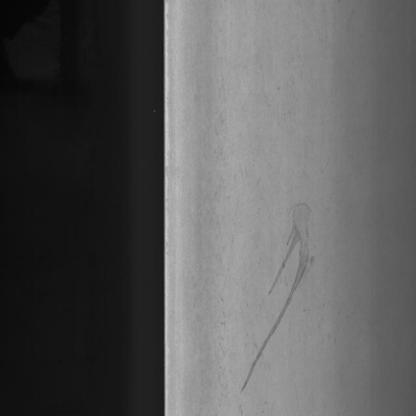water_spot: (236, 191, 329, 397)
